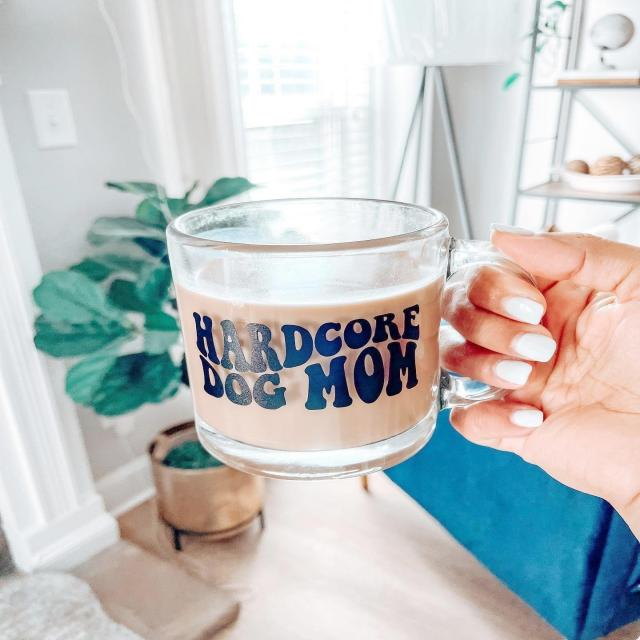glass-mug: (149, 188, 545, 488)
